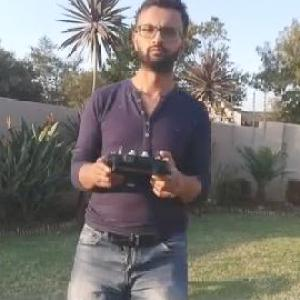follow: (66, 0, 212, 299)
